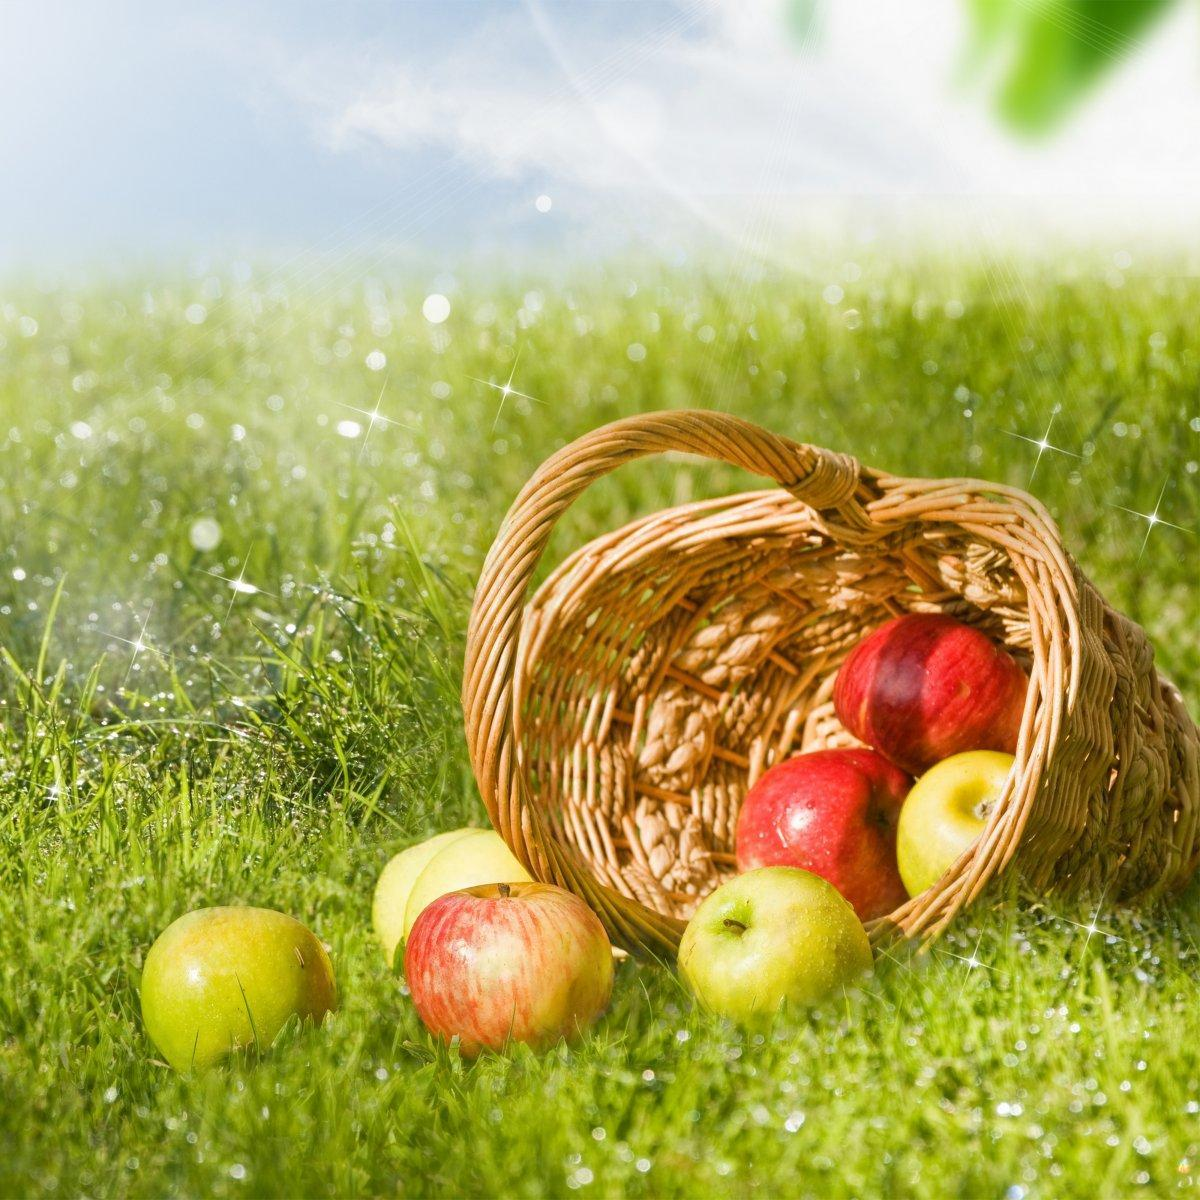apple: (402, 879, 615, 1045), (135, 905, 336, 1074), (675, 865, 871, 1027), (735, 743, 912, 913), (835, 609, 1031, 762)
